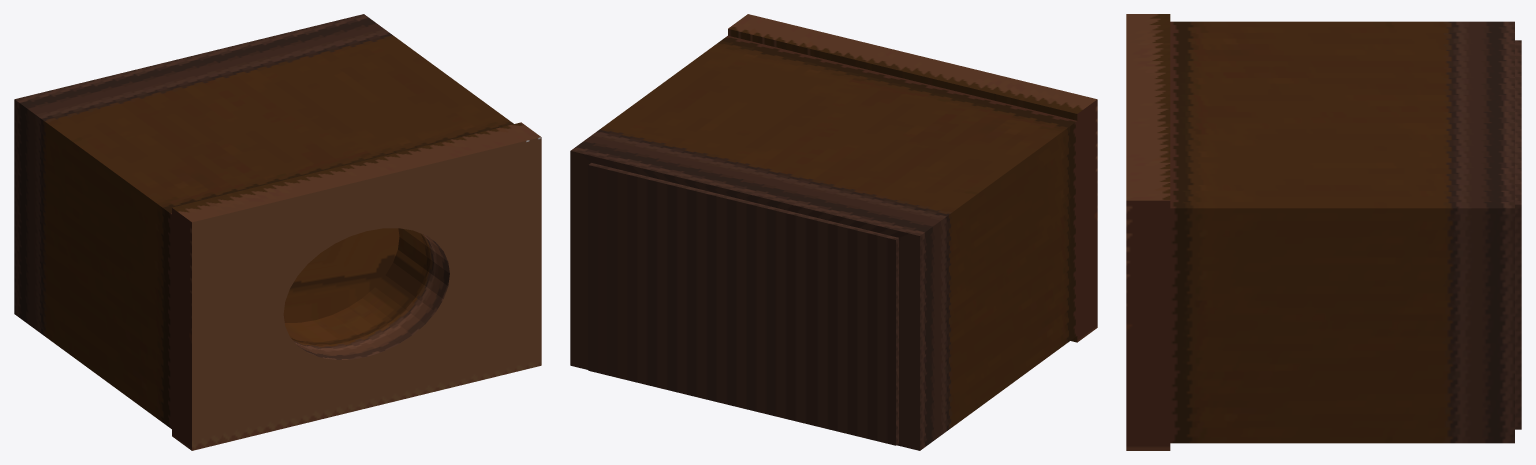
Rendered from pz_counter_dark_oak_floor__sink_inset_oval.obj.
3 renders of one model, left to right at view 1: azimuth 30°, elevation 25°; view 2: azimuth 150°, elevation 25°; view 3: azimuth 270°, elevation 25°, orthographic. The views are drawn at different scales.
Size of the model in its own units: 1 by 0.6266 by 0.895.
Materials: 1 (1 with a texture image).
